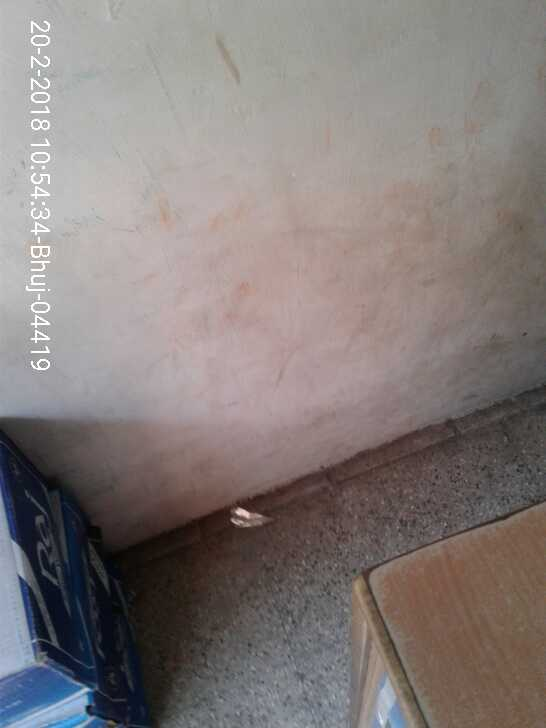reject: (304, 359, 400, 489)
